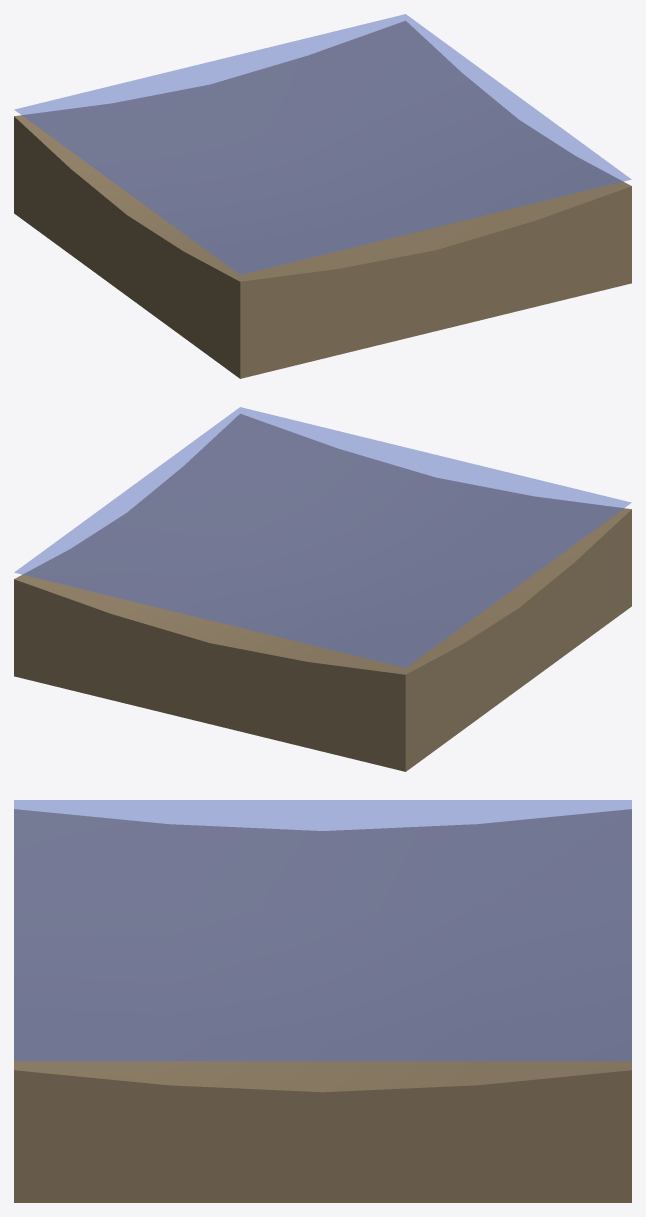
File: Buddle.fbx
3 views of the same model, one above another, from view 1: azimuth 30°, elevation 25°; view 2: azimuth 150°, elevation 25°; view 3: azimuth 270°, elevation 25° (orthographic). The views are drawn at different scales.
Visible parts, largest first — view 1: Buddle; view 2: Buddle; view 3: Buddle.
Boxes of the visible parts, x1,y1,x2,y2 form: Buddle: (14, 14, 631, 378); Buddle: (14, 407, 631, 771); Buddle: (14, 800, 631, 1202).
Size of the model in its own units: 1 by 0.2531 by 1.
